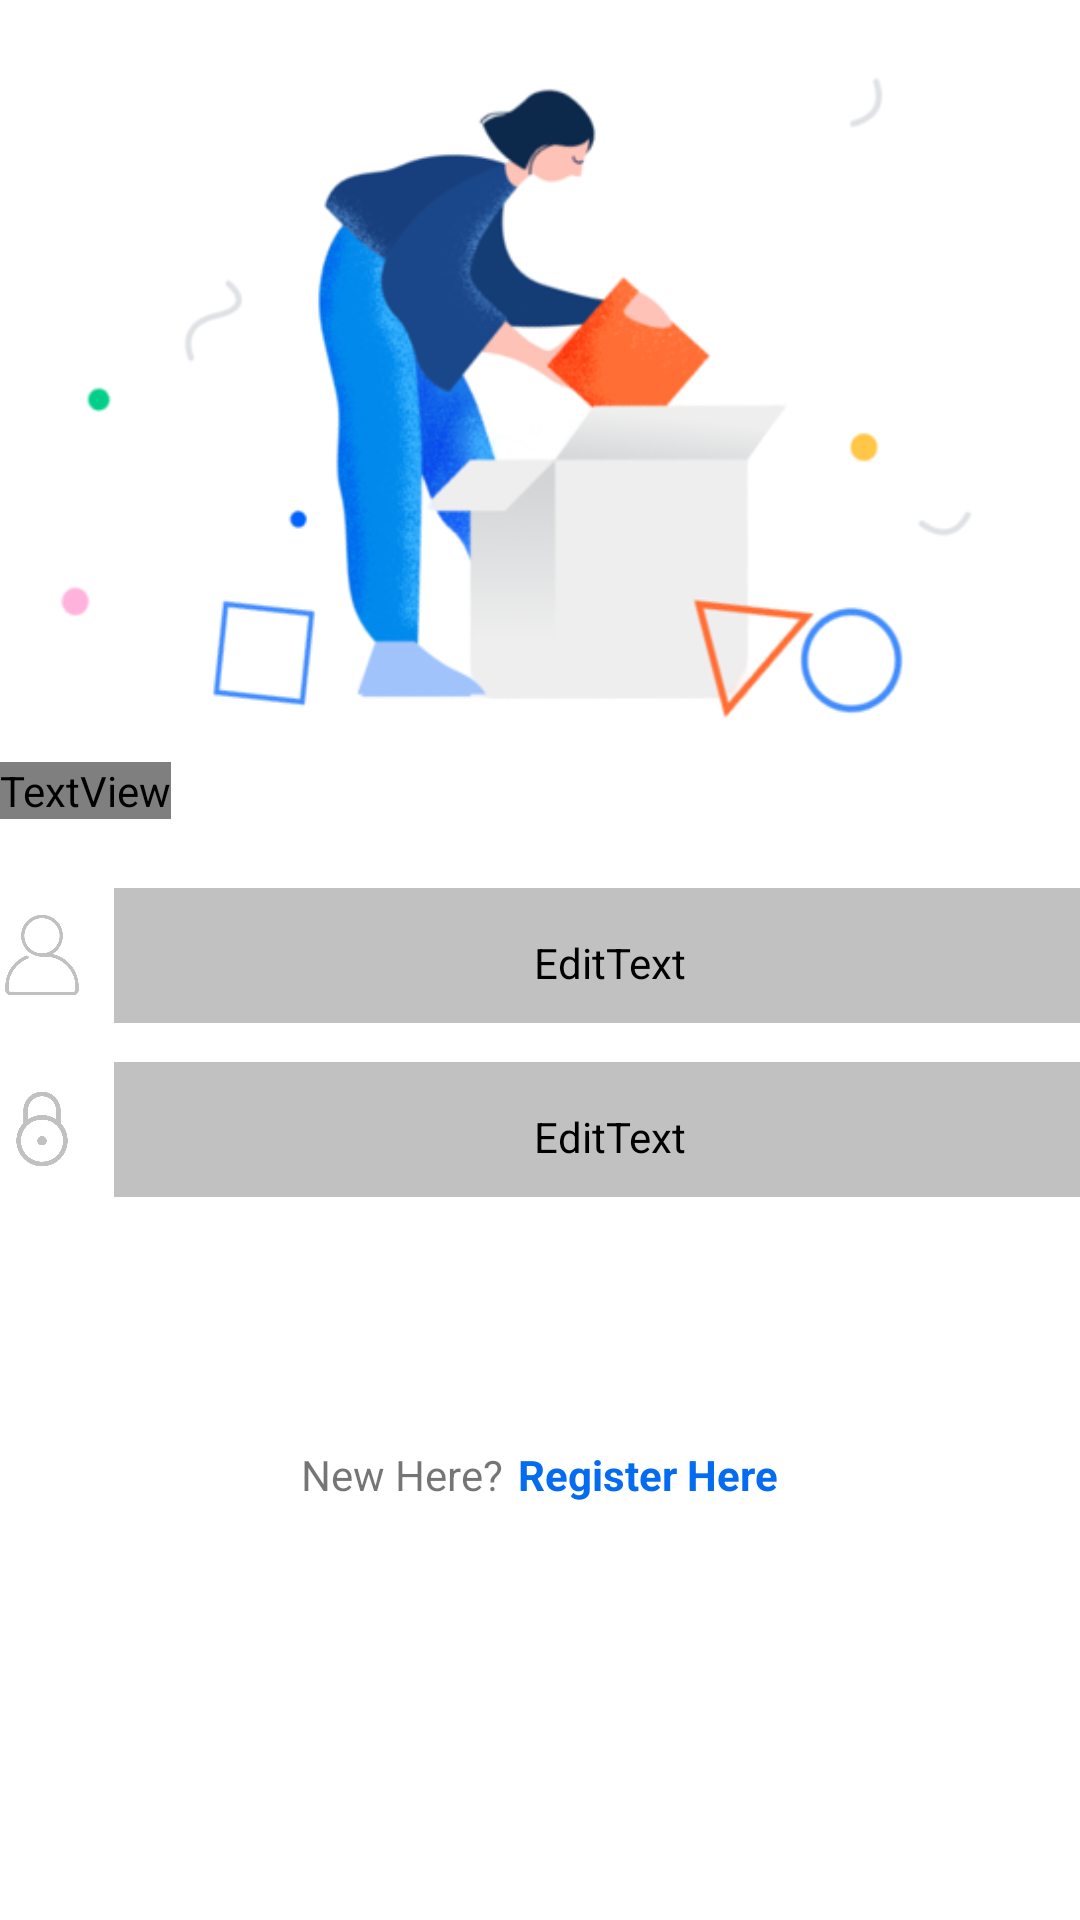

Point at icon controls on the screen. Image size 1080×1920, points as [x,y].
lock: [42,1129]
